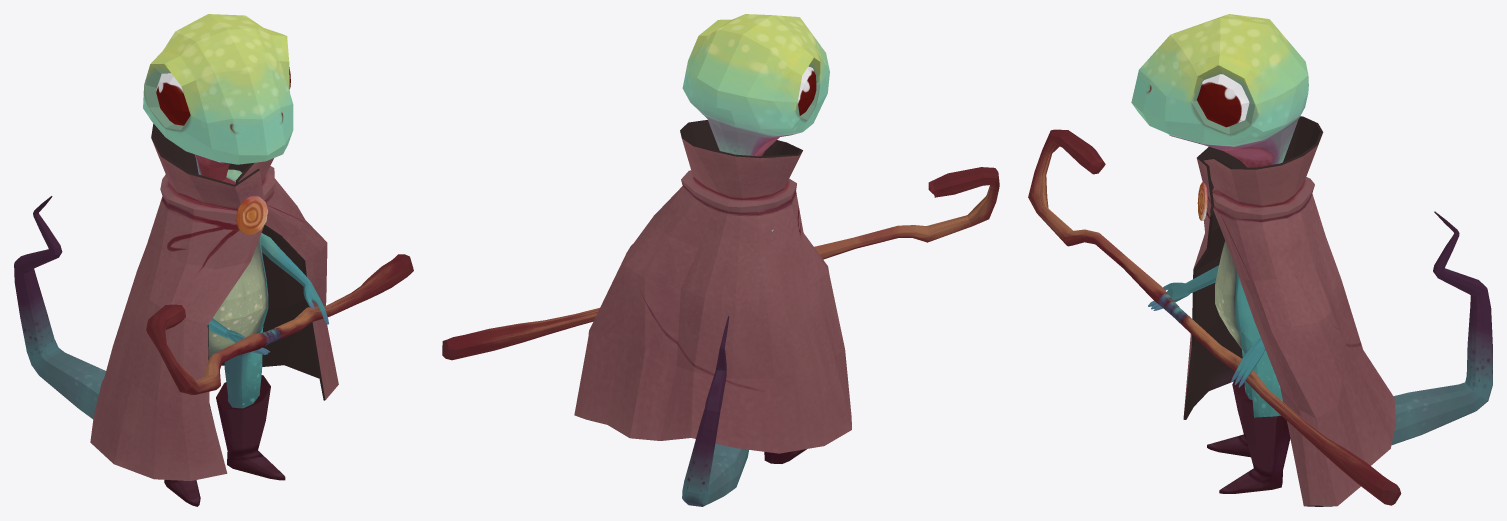
File: lizard_wizard.glb
The picture shows the model from 3 angles, left to right: view 1: azimuth 30°, elevation 25°; view 2: azimuth 150°, elevation 25°; view 3: azimuth 270°, elevation 25°; orthographic projection. The views are drawn at different scales.
Parts seen in each view (by area): view 1: body.001, body; view 2: body.001, body; view 3: body.001, body.
Boxes of the visible parts, x1,y1,x2,y2 form: body.001: [90, 123, 413, 506]; body: [14, 14, 328, 419]; body.001: [442, 120, 999, 463]; body: [682, 14, 829, 506]; body.001: [1028, 116, 1401, 506]; body: [1131, 14, 1492, 444].
Bounding box in the file's own units: 6.86 × 6.97 × 6.55.
2 materials, 2 textured.
